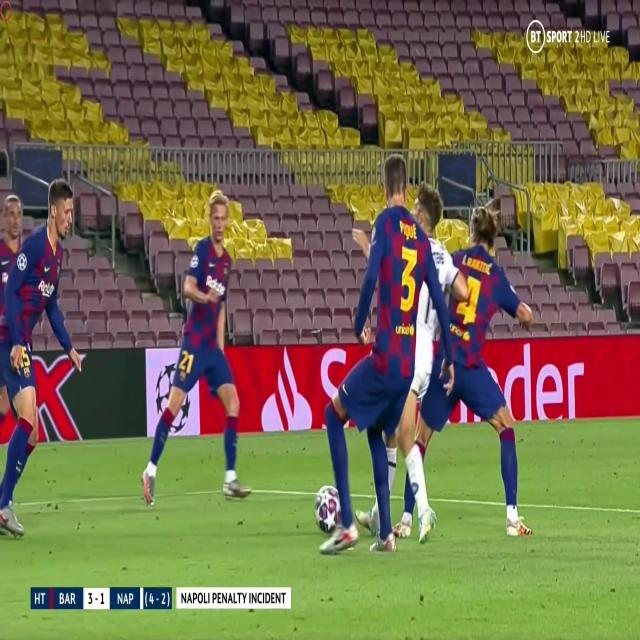ball: (311, 478, 343, 535)
player: (367, 175, 539, 550), (306, 142, 453, 558), (140, 181, 256, 512), (0, 166, 87, 541)
